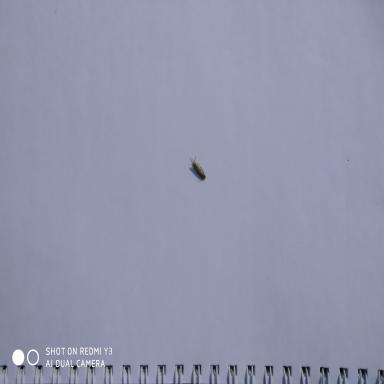pbw: (190, 154, 204, 181)
